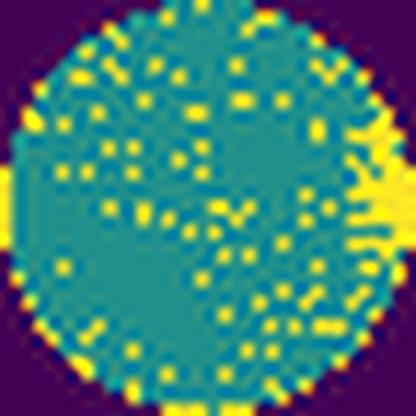Edge-Loc: (336, 99, 416, 289)
